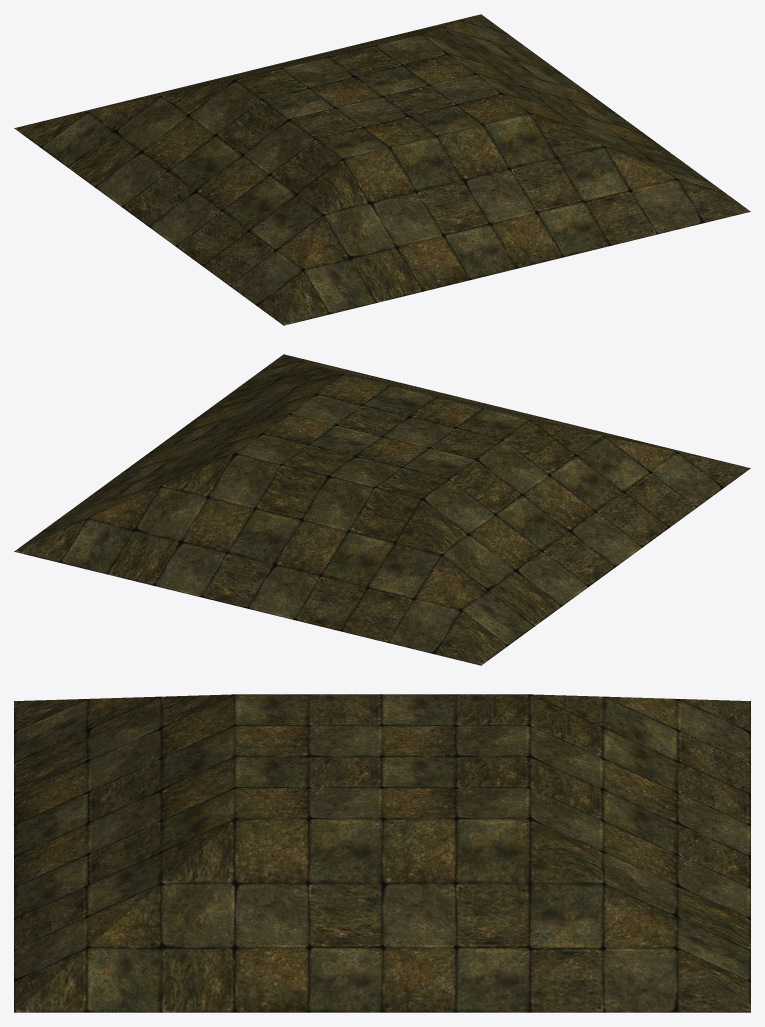
Rendered from wooddungeonInt2.gltf.
3 views of the same model, one above another, from view 1: azimuth 30°, elevation 25°; view 2: azimuth 150°, elevation 25°; view 3: azimuth 270°, elevation 25° (orthographic). The views are drawn at different scales.
Parts seen in each view (by area): view 1: wooddungeonInt2; view 2: wooddungeonInt2; view 3: wooddungeonInt2.
Part boxes in pixels (x1,y1,x2,y2): wooddungeonInt2: (14,14,750,325); wooddungeonInt2: (14,354,750,665); wooddungeonInt2: (14,694,750,1012).
Size of the model in its own units: 20 by 3 by 20.
1 material, 1 textured.
